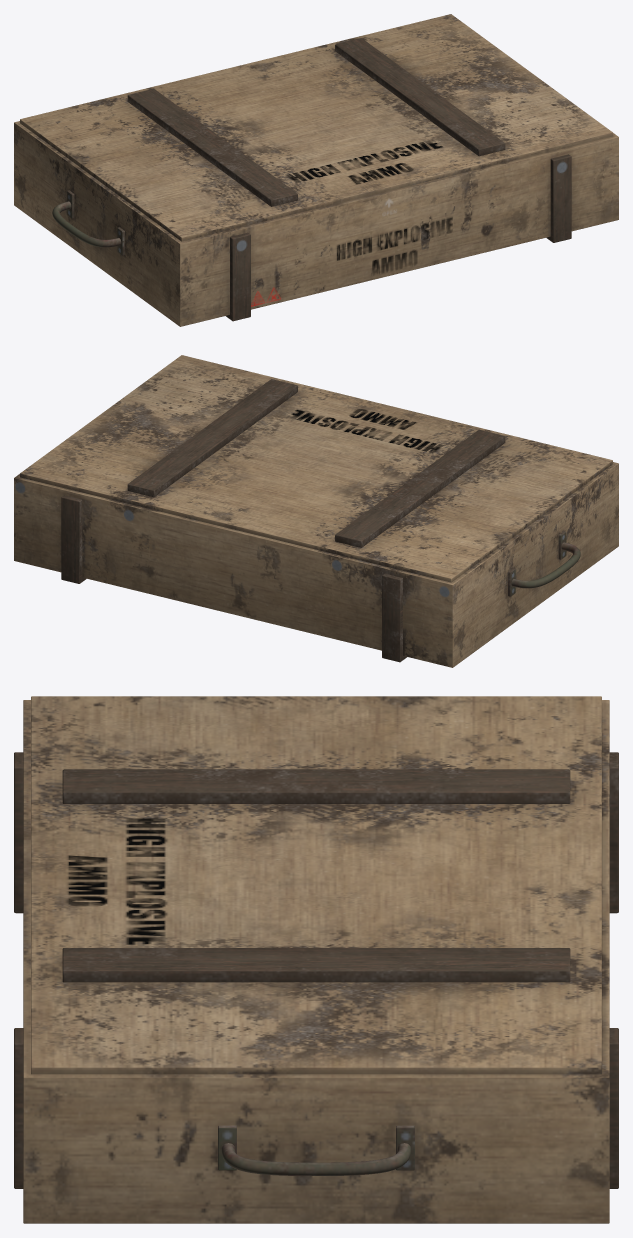
The model's file is chest_01.gltf.
The picture shows the model from 3 angles, top to bottom: view 1: azimuth 30°, elevation 25°; view 2: azimuth 150°, elevation 25°; view 3: azimuth 270°, elevation 25°; orthographic projection. The views are drawn at different scales.
Parts seen in each view (by area): view 1: BezierCurve; view 2: BezierCurve; view 3: BezierCurve.
Part boxes in pixels (x1,y1,x2,y2): BezierCurve: (14,14,618,326); BezierCurve: (14,355,618,667); BezierCurve: (14,696,618,1223).
Size of the model in its own units: 1 by 0.1895 by 0.5975.
Materials: 6 (6 with a texture image).
